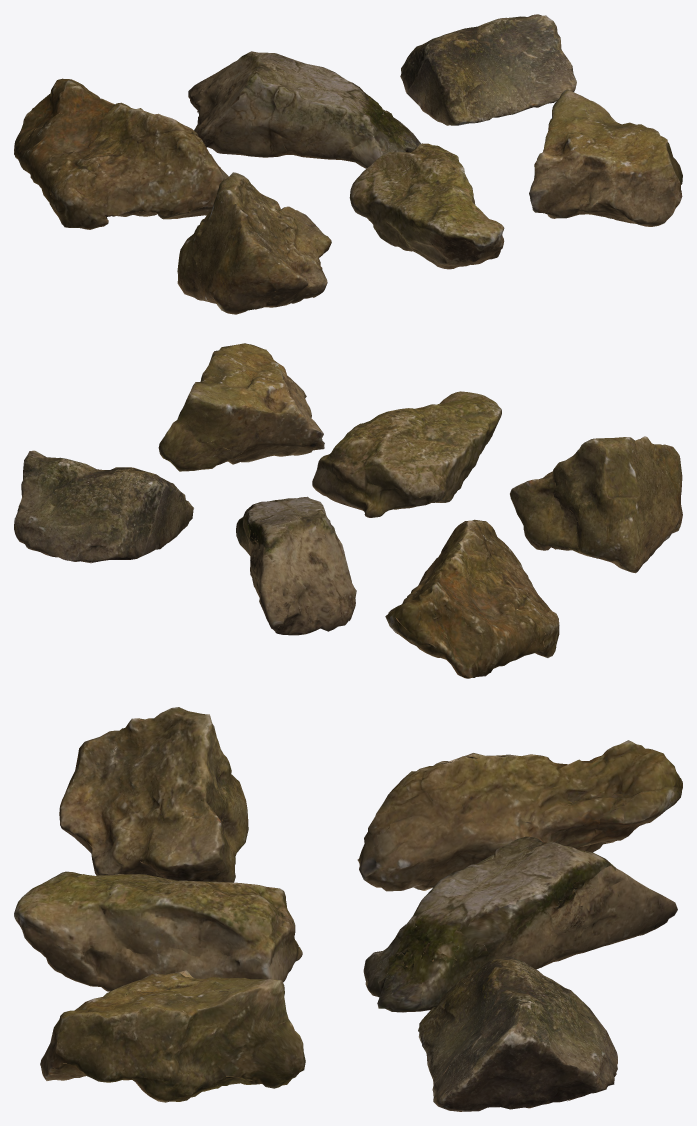
Rendered from rock_moss_set_01.glb.
3 renders of one model, top to bottom at view 1: azimuth 30°, elevation 25°; view 2: azimuth 150°, elevation 25°; view 3: azimuth 270°, elevation 25°, orthographic. The views are drawn at different scales.
Parts seen in each view (by area): view 1: rock_moss_set_01_rock01_lo, rock_moss_set_01_rock02_lo, rock_moss_set_01_rock06_lo, rock_moss_set_01_rock04_lo, rock_moss_set_01_rock03_lo, rock_moss_set_01_rock05_lo; view 2: rock_moss_set_01_rock04_lo, rock_moss_set_01_rock01_lo, rock_moss_set_01_rock05_lo, rock_moss_set_01_rock03_lo, rock_moss_set_01_rock06_lo, rock_moss_set_01_rock02_lo; view 3: rock_moss_set_01_rock01_lo, rock_moss_set_01_rock02_lo, rock_moss_set_01_rock05_lo, rock_moss_set_01_rock04_lo, rock_moss_set_01_rock06_lo, rock_moss_set_01_rock03_lo.
Boxes of the visible parts, box(x1,y1,x2,y2) form: rock_moss_set_01_rock01_lo: box(14, 78, 228, 229); rock_moss_set_01_rock02_lo: box(188, 51, 420, 168); rock_moss_set_01_rock06_lo: box(529, 89, 682, 226); rock_moss_set_01_rock04_lo: box(177, 172, 331, 314); rock_moss_set_01_rock03_lo: box(400, 14, 576, 125); rock_moss_set_01_rock05_lo: box(349, 143, 504, 269); rock_moss_set_01_rock04_lo: box(510, 436, 682, 573); rock_moss_set_01_rock01_lo: box(385, 519, 559, 678); rock_moss_set_01_rock05_lo: box(312, 391, 501, 517); rock_moss_set_01_rock03_lo: box(14, 450, 193, 563); rock_moss_set_01_rock06_lo: box(158, 343, 324, 471); rock_moss_set_01_rock02_lo: box(236, 496, 356, 635); rock_moss_set_01_rock01_lo: box(357, 740, 682, 891); rock_moss_set_01_rock02_lo: box(363, 836, 677, 1012); rock_moss_set_01_rock05_lo: box(14, 871, 302, 991); rock_moss_set_01_rock04_lo: box(59, 707, 248, 882); rock_moss_set_01_rock06_lo: box(40, 970, 305, 1102); rock_moss_set_01_rock03_lo: box(418, 956, 617, 1111).
Size of the model in its own units: 8 by 1.77 by 6.95.
6 materials, 6 textured.
